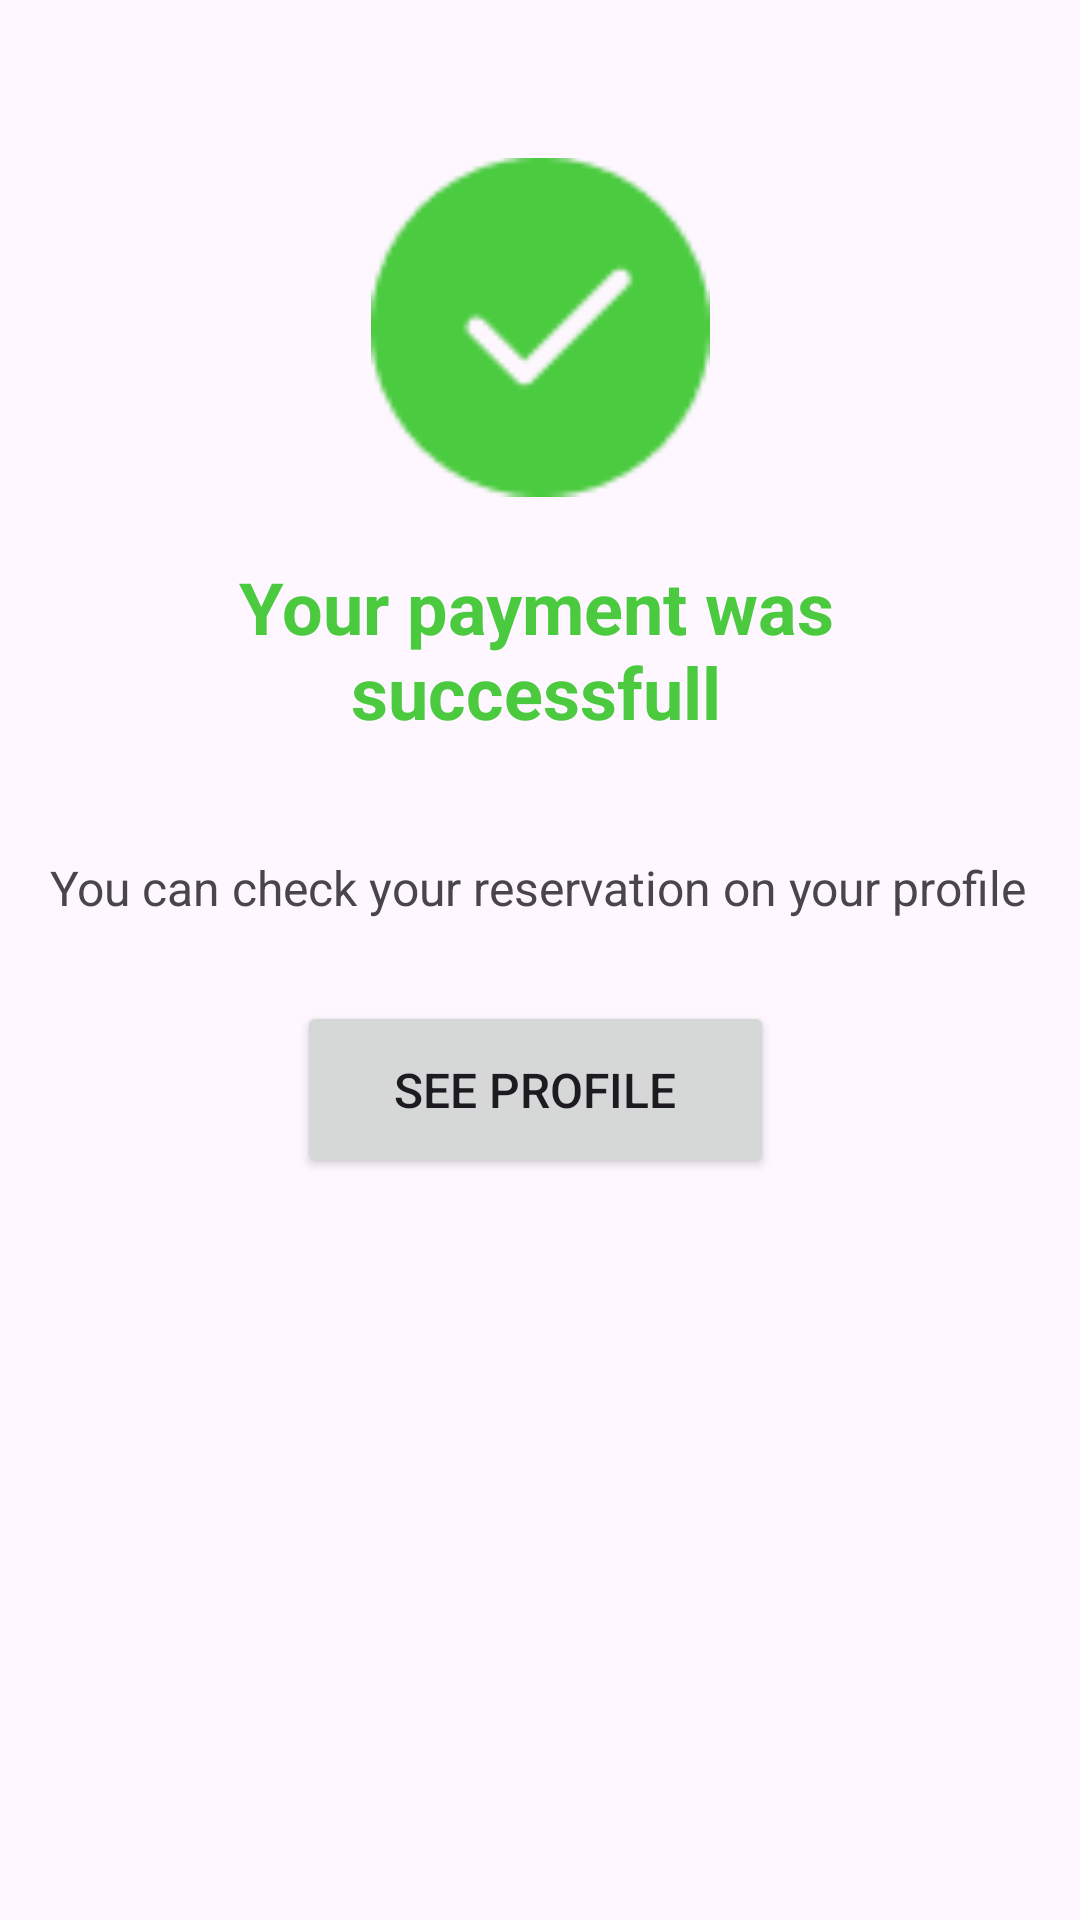

Named icons in this screenshot (1080*1920) and their bounding boxes, (x1, y1, x2, y2):
check: (371, 158, 710, 497)
